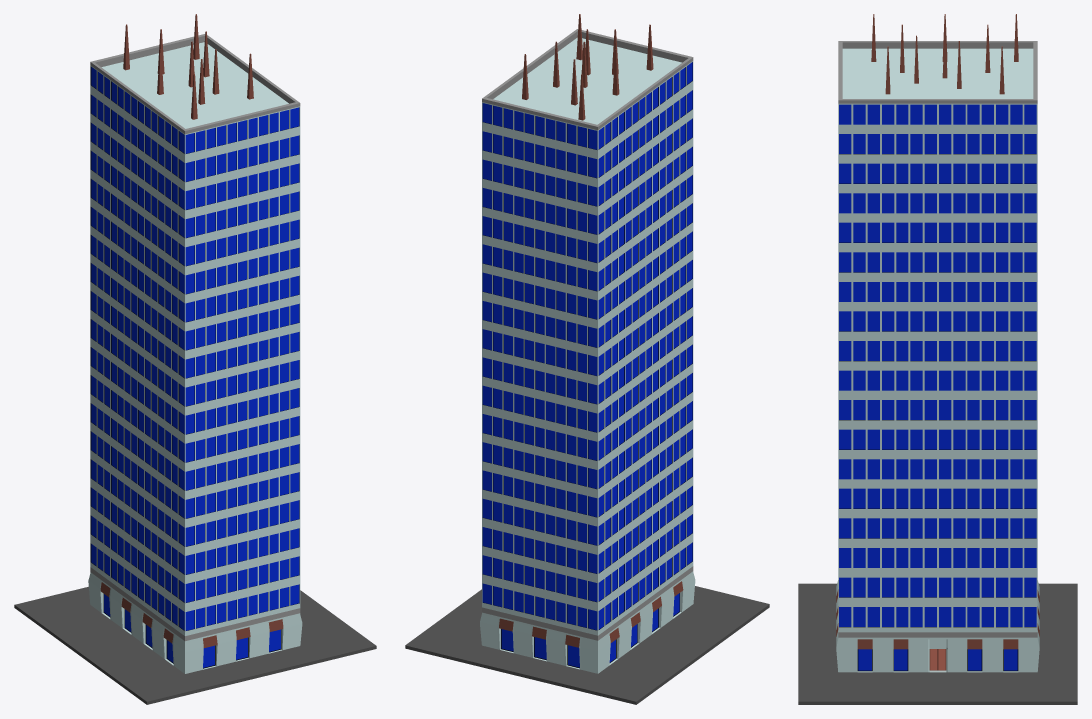
Rendered from Immeuble2_1.glb.
The picture shows the model from 3 angles, left to right: view 1: azimuth 30°, elevation 25°; view 2: azimuth 150°, elevation 25°; view 3: azimuth 270°, elevation 25°; orthographic projection. The views are drawn at different scales.
Visible parts, largest first — view 1: Immeuble2_1; view 2: Immeuble2_1; view 3: Immeuble2_1.
Part boxes in pixels (x1=…): Immeuble2_1: x1=14, y1=14, x2=376, y2=704; Immeuble2_1: x1=405, y1=14, x2=769, y2=704; Immeuble2_1: x1=798, y1=14, x2=1077, y2=704.
Size of the model in its own units: 25 by 60.81 by 25.
